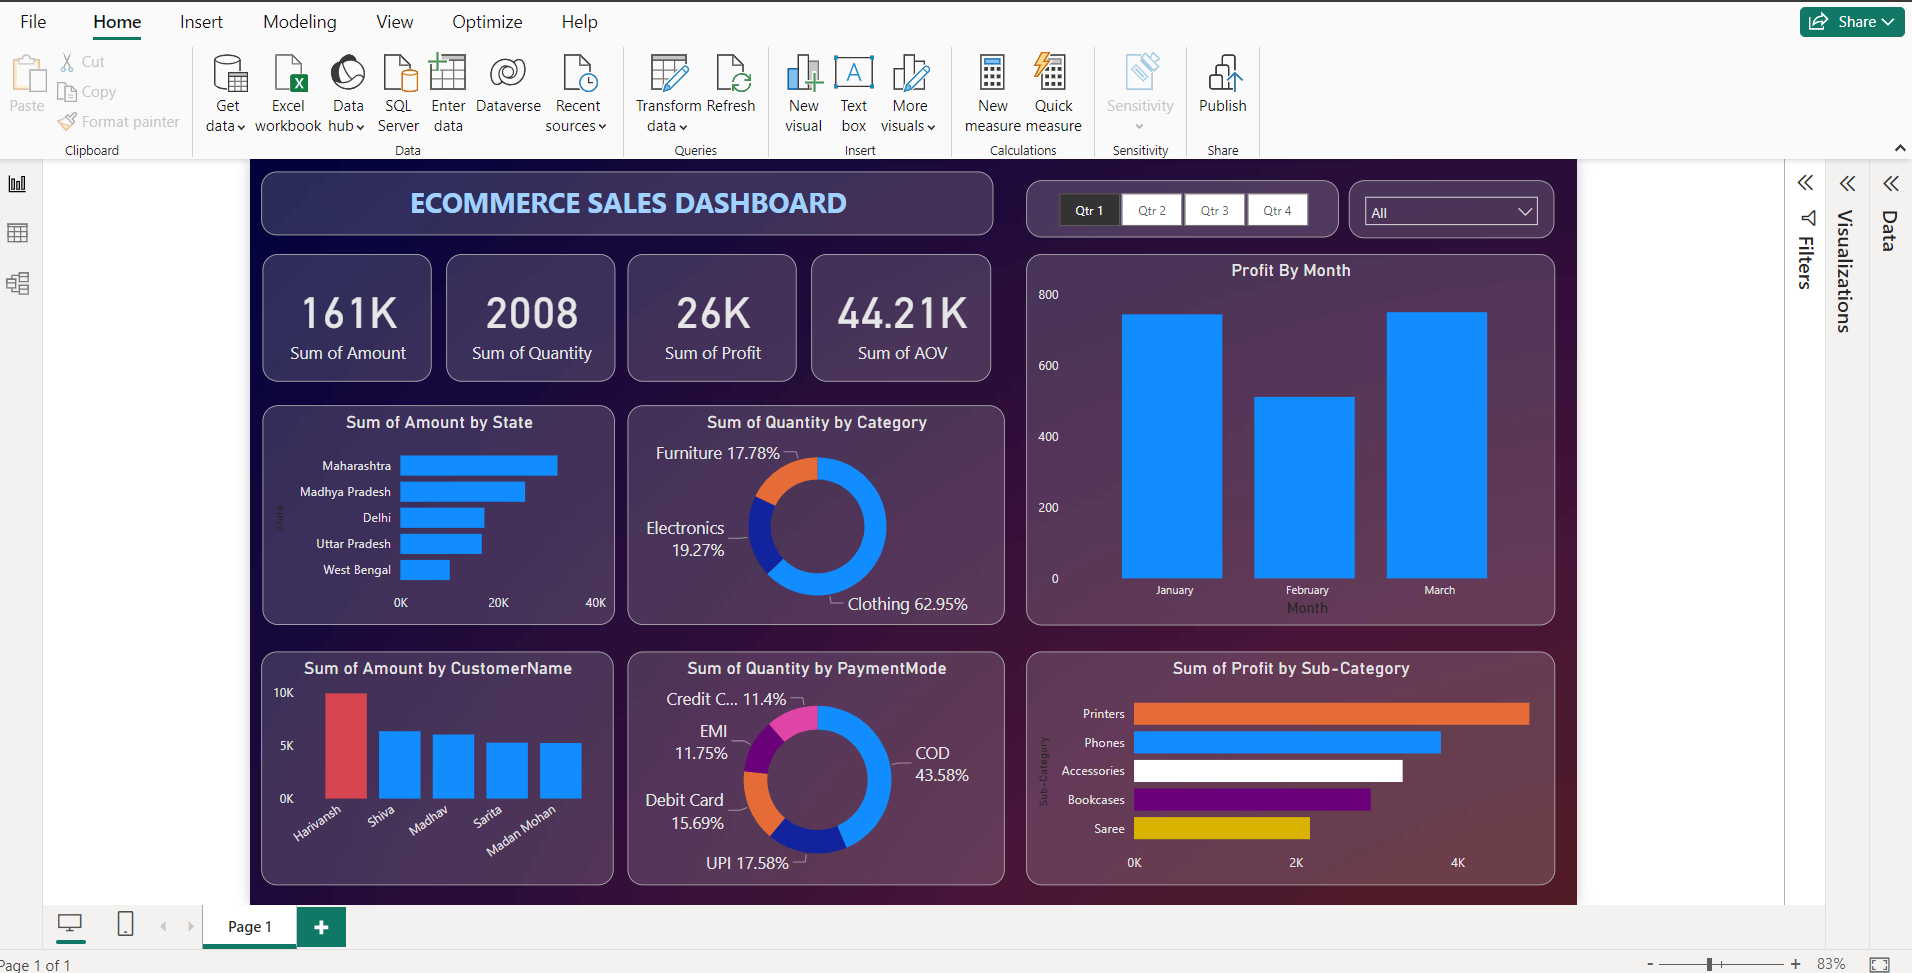

What the dashboard file says about the page in this screenshot:
{"tool":"powerbi","page":{"name":"Page 1","canvas":[1280,720],"ordinal":0},"visuals":[{"type":"textbox","box":[10.9,12.1,706.7,61.5],"z":0},{"type":"columnChart","title":"Profit By Month","fields":{"Category":["Orders.Order Date.Variation.Date Hierarchy.Month"],"Y":["Details.Quantity"]},"box":[748.6,91.4,510,358.6],"z":1000},{"type":"barChart","fields":{"Category":["Details.Sub-Category"],"Y":["Details.Profit"]},"box":[748.6,475.7,510,225.7],"z":2000},{"type":"donutChart","fields":{"Category":["Details.Category"],"Y":["Details.Quantity"]},"box":[364.2,237.6,364.2,212.3],"z":3000},{"type":"donutChart","fields":{"Y":["Details.Quantity"],"Category":["Details.PaymentMode"]},"box":[364.3,475.7,364.3,225.7],"z":4000},{"type":"card","fields":{"Values":["Details.Amount"]},"box":[12.1,91.7,162.8,123],"z":5000},{"type":"card","fields":{"Values":["Details.Quantity"]},"box":[189.3,91.7,162.8,123],"z":6000},{"type":"card","fields":{"Values":["Details.Profit"]},"box":[364.2,91.7,162.8,123],"z":7000},{"type":"card","fields":{"Values":["Details.AOV"]},"box":[541.5,91.7,173.7,123],"z":8000},{"type":"barChart","fields":{"Category":["Orders.State"],"Y":["Details.Amount"]},"box":[12.1,237.6,340.1,212.3],"z":9000},{"type":"slicer","fields":{"Values":["Orders.Order Date.Variation.Date Hierarchy.Quarter"]},"box":[748.9,20.5,301.5,55.5],"z":10000},{"type":"slicer","fields":{"Values":["Orders.Order Date.Variation.Date Hierarchy.Quarter"]},"box":[1060,20,198.6,55.7],"z":10001},{"type":"columnChart","fields":{"Category":["Orders.CustomerName"],"Y":["Details.Amount"]},"box":[11.4,475.7,340,225.7],"z":10002}]}

Visuals, with their boxes on the page's 1280x720 design canvas (x1, y1, x2, y2). These are canvas units, not pixel positions in the 1912x973 screenshot, which may show the page scaled, cropped or inside an application window:
textbox: BBox(11, 12, 718, 74)
"Profit By Month" columnChart: BBox(749, 91, 1259, 450)
barChart - Details.Sub-Category x Details.Profit: BBox(749, 476, 1259, 701)
donutChart - Details.Category x Details.Quantity: BBox(364, 238, 728, 450)
donutChart - Details.Quantity x Details.PaymentMode: BBox(364, 476, 729, 701)
card - Details.Amount: BBox(12, 92, 175, 215)
card - Details.Quantity: BBox(189, 92, 352, 215)
card - Details.Profit: BBox(364, 92, 527, 215)
card - Details.AOV: BBox(542, 92, 715, 215)
barChart - Orders.State x Details.Amount: BBox(12, 238, 352, 450)
slicer - Orders.Order Date.Variation.Date Hierarchy.Quarter: BBox(749, 20, 1050, 76)
slicer - Orders.Order Date.Variation.Date Hierarchy.Quarter: BBox(1060, 20, 1259, 76)
columnChart - Orders.CustomerName x Details.Amount: BBox(11, 476, 351, 701)
